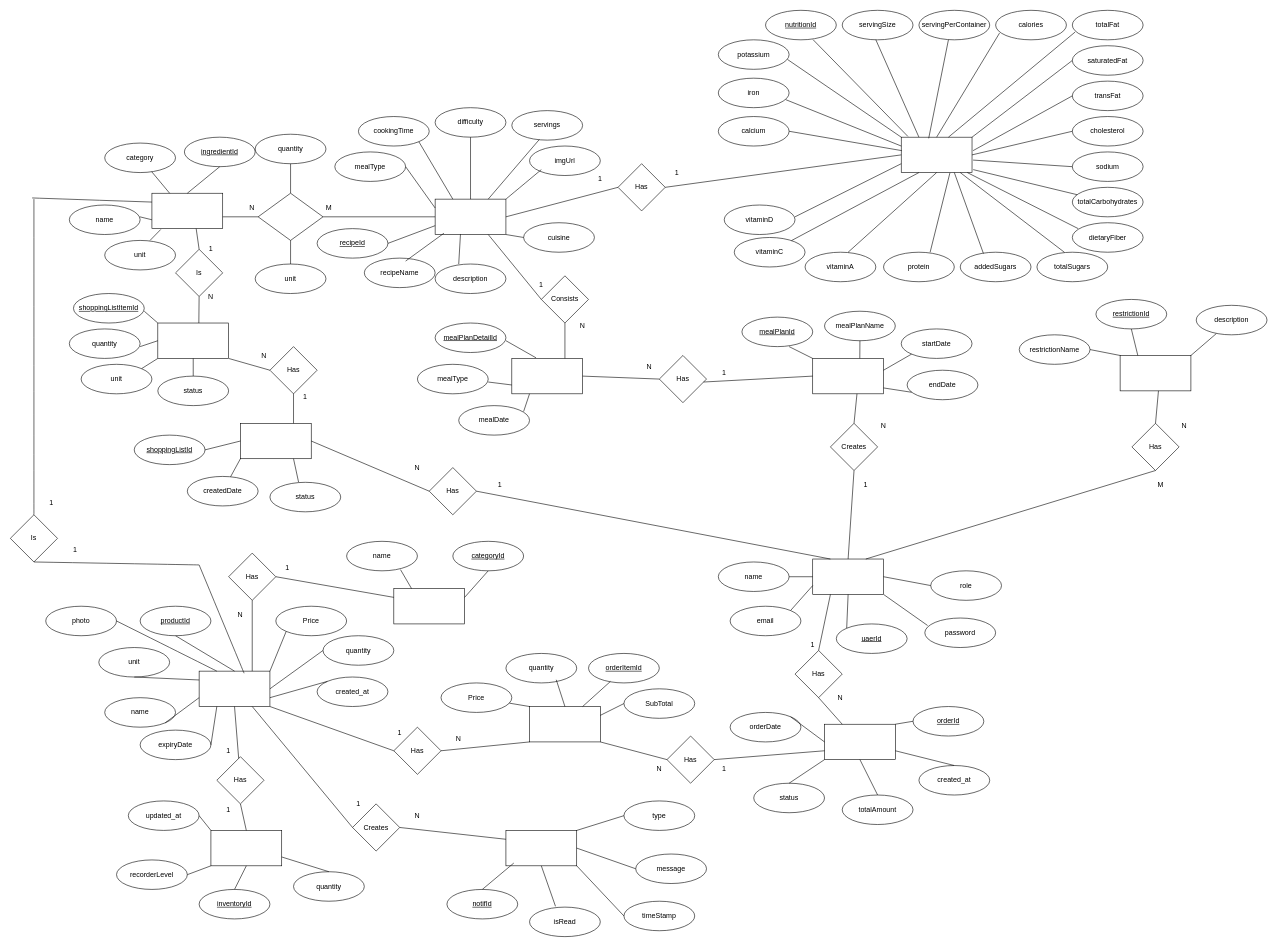
Some shapes in this 1277 by 947 pixel diagram are drawn without their labels. Here are the shapes that lost their labels. From the top down, the centre of each, then its label:
pixel 936 155: NutritionFacts
pixel 187 211: Ingredients
pixel 290 216: RecipeIngredient
pixel 470 217: Recipes
pixel 193 340: ShoppingListItems
pixel 547 376: MealPlanDetails
pixel 848 376: MealPlans
pixel 1155 373: DietaryRestriction
pixel 275 441: ShoppingLists
pixel 848 576: User
pixel 429 606: Categories
pixel 234 689: Products
pixel 564 724: OrderItems
pixel 859 742: Orders
pixel 246 848: Inventory
pixel 541 848: Notifications
